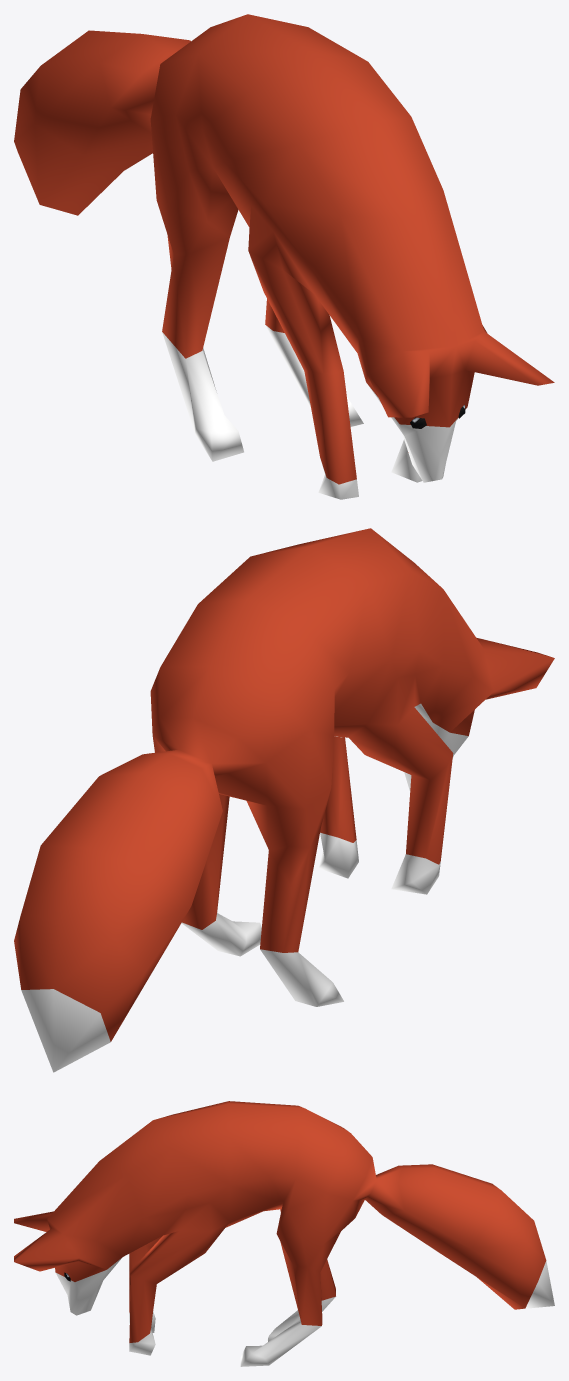
File: Fox04.glb
The picture shows the model from 3 angles, top to bottom: view 1: azimuth 30°, elevation 25°; view 2: azimuth 150°, elevation 25°; view 3: azimuth 270°, elevation 25°; orthographic projection. The views are drawn at different scales.
Visible parts, largest first — view 1: Fox04; view 2: Fox04; view 3: Fox04.
Boxes of the visible parts, box(x1,y1,x2,y2) form: Fox04: box(14, 14, 554, 499); Fox04: box(14, 528, 554, 1072); Fox04: box(14, 1101, 554, 1366).
Size of what is drawn, in the model's own units: 0.3193 by 0.762 by 1.45.
Materials: 1 (1 with a texture image).
